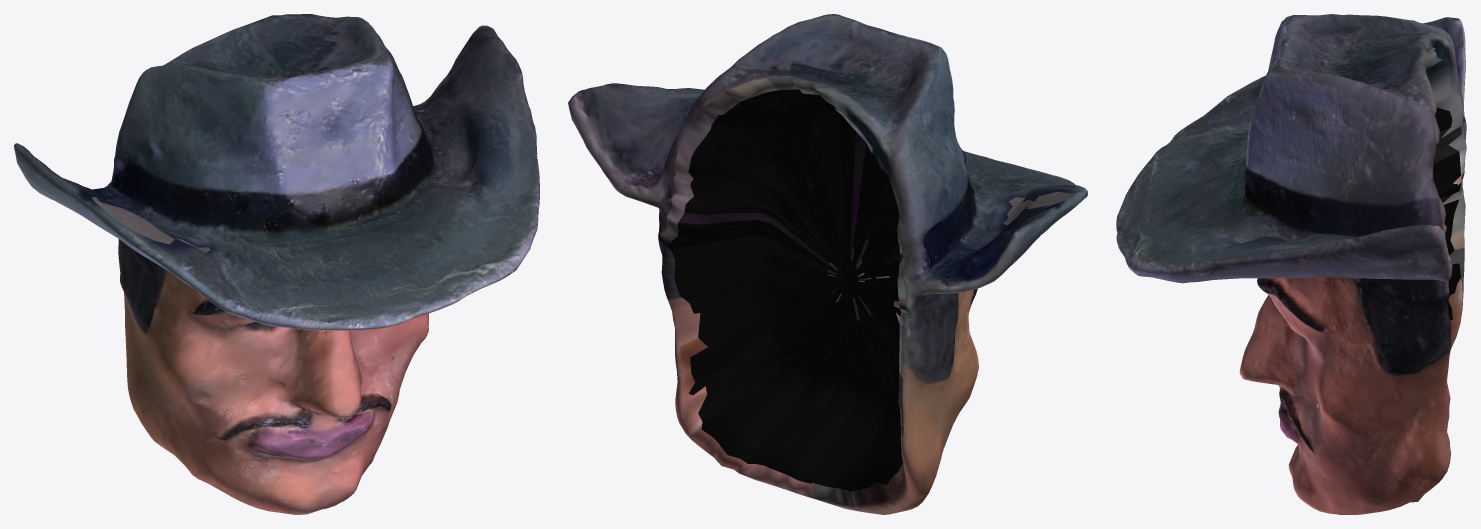
File: Mask_1.4_dima_low.glb
3 renders of one model, left to right at view 1: azimuth 30°, elevation 25°; view 2: azimuth 150°, elevation 25°; view 3: azimuth 270°, elevation 25°, orthographic.
Visible parts, largest first — view 1: Mesh_0; view 2: Mesh_0; view 3: Mesh_0.
Boxes of the visible parts, bbox=[...] form: Mesh_0: bbox=[14, 14, 539, 514]; Mesh_0: bbox=[568, 14, 1087, 514]; Mesh_0: bbox=[1116, 14, 1466, 514].
Bounding box in the file's own units: 1.94 × 1.83 × 1.27.
Materials: 5 (5 with a texture image).
